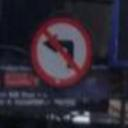NoVirarEsquerda: (28, 14, 94, 91)
